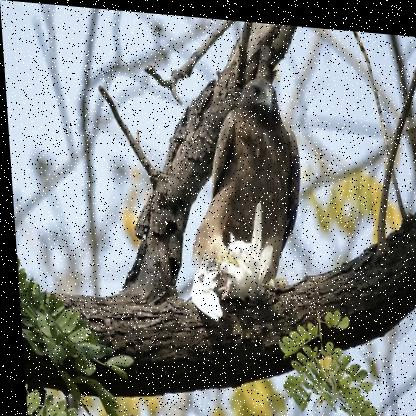Burung: (181, 67, 311, 308)
